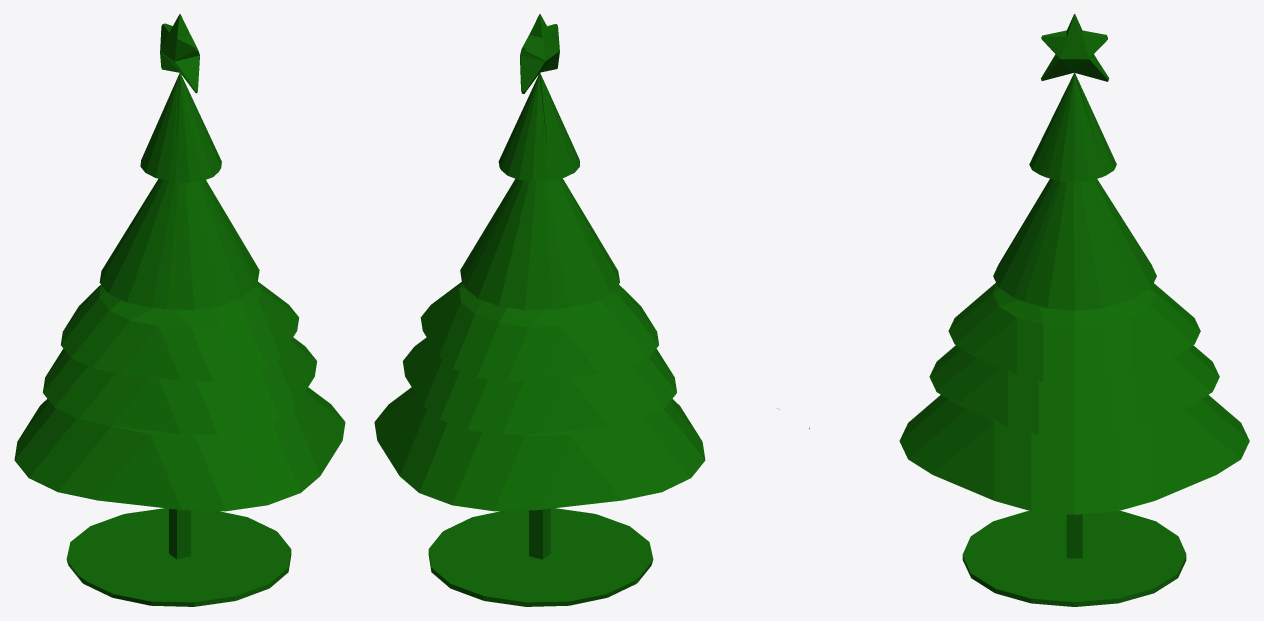
Rendered from christmastreeEnvironmental.fbx.
3 views of the same model, side by side, from view 1: azimuth 30°, elevation 25°; view 2: azimuth 150°, elevation 25°; view 3: azimuth 270°, elevation 25° (orthographic).
Parts seen in each view (by area): view 1: Cube; view 2: Cube; view 3: Cube.
Boxes of the visible parts, left/top/right/bottom form: Cube: left=14, top=14, right=345, bottom=606; Cube: left=374, top=14, right=779, bottom=606; Cube: left=809, top=14, right=1249, bottom=606.
Bounding box in the file's own units: 1260 × 2172 × 1590.
